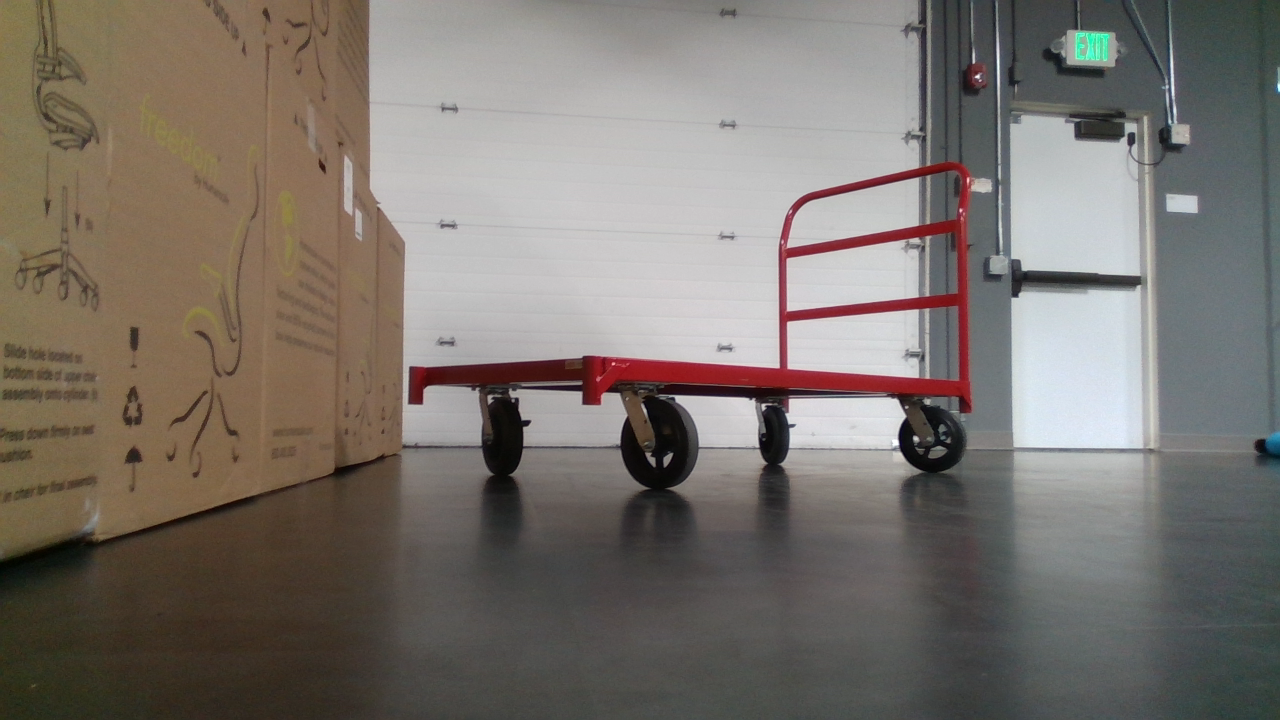Dolly: (407, 161, 979, 490)
Wheel: (617, 385, 703, 489), (896, 399, 968, 472), (477, 381, 530, 477), (752, 395, 795, 466)
